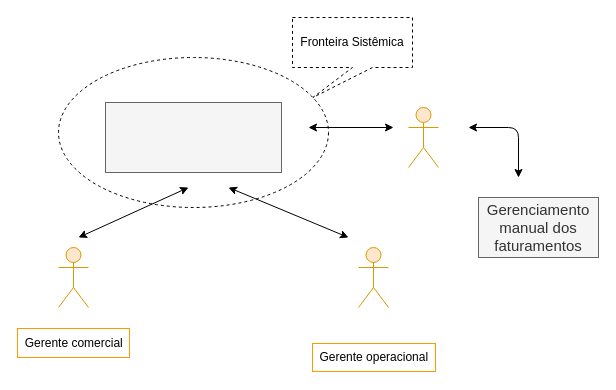
Some shapes in this 616 by 390 pixel diagram are drawn without their labels. The centre of each missing label's shape, as x and y in pixels:
CRM - Customer Relationship Management: [193,137]
Sócios-Administradores: [423,137]
